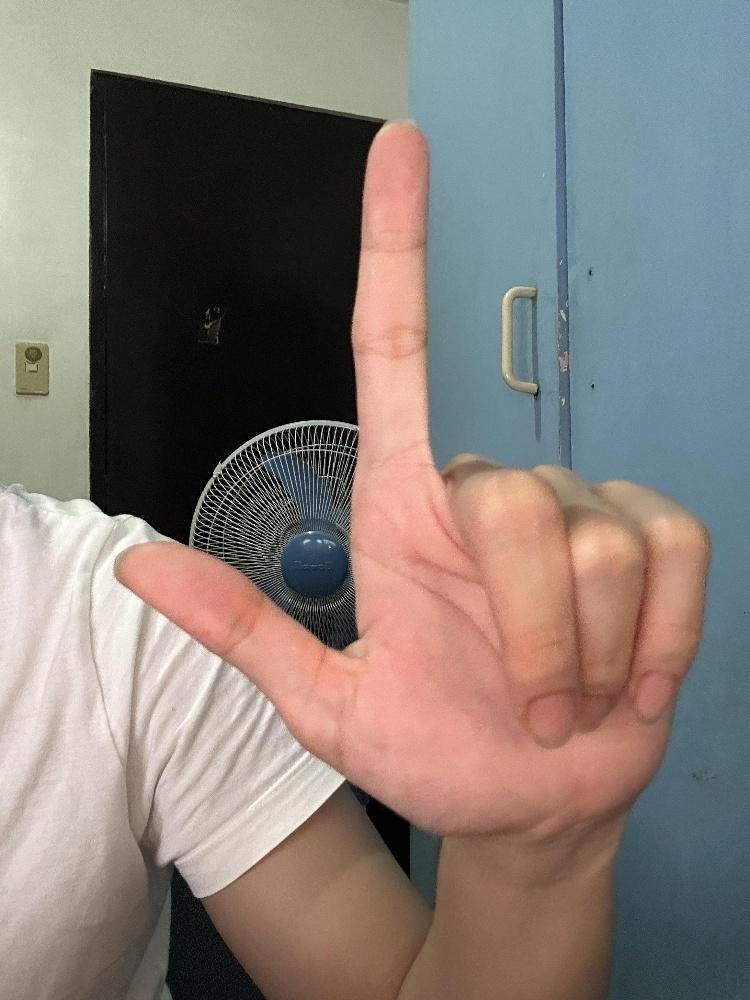l: (107, 111, 714, 859)
